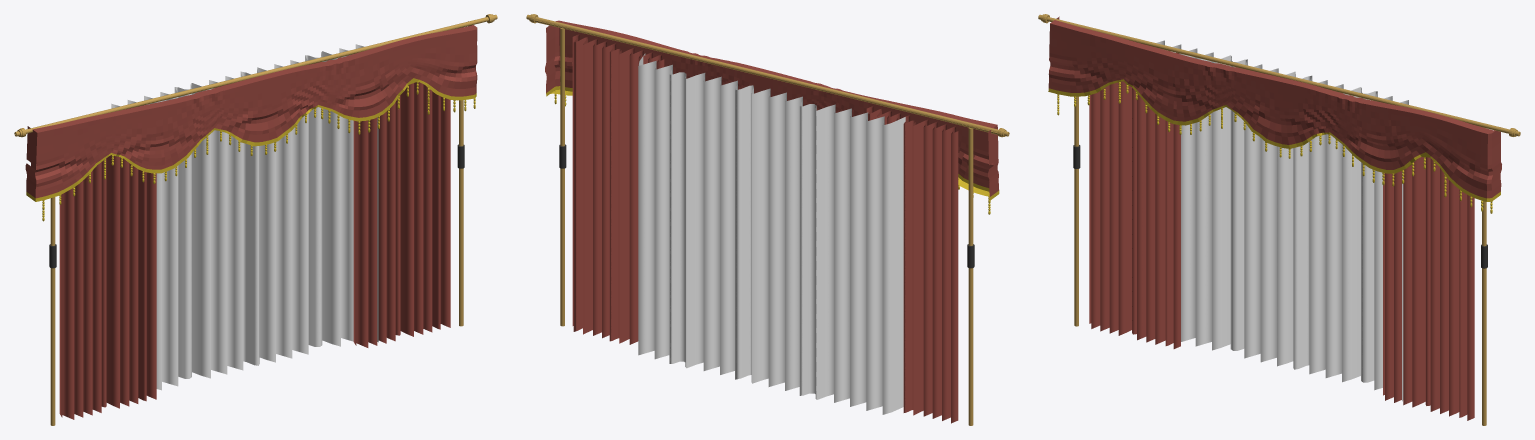
File: cortina_estudio.fbx
3 views of the same model, side by side, from view 1: azimuth 30°, elevation 25°; view 2: azimuth 150°, elevation 25°; view 3: azimuth 330°, elevation 25° (orthographic).
Visible parts, largest first — view 1: pPlane3, ZBrush_defualt_group, pPlane5, pPlane4, pCylinder1, pCylinder3, pSphere50, pCylinder2; view 2: pPlane3, pPlane4, pPlane5, ZBrush_defualt_group, pCylinder1, pCylinder3, pCylinder2; view 3: pPlane3, ZBrush_defualt_group, pPlane5, pPlane4, pCylinder1, pSphere50, pCylinder3, pCylinder2.
Boxes of the visible parts, x1,y1,x2,y2 form: pPlane3: [111, 44, 378, 390]; ZBrush_defualt_group: [25, 21, 477, 201]; pPlane5: [59, 155, 156, 419]; pPlane4: [353, 82, 450, 347]; pCylinder1: [14, 14, 497, 137]; pCylinder3: [49, 197, 56, 425]; pSphere50: [42, 81, 475, 221]; pCylinder2: [457, 100, 464, 326]; pPlane3: [638, 53, 905, 414]; pPlane4: [572, 34, 664, 344]; pPlane5: [866, 105, 958, 423]; ZBrush_defualt_group: [545, 20, 999, 200]; pCylinder1: [526, 14, 1009, 137]; pCylinder3: [967, 127, 974, 425]; pCylinder2: [559, 28, 566, 326]; pPlane3: [1156, 40, 1408, 401]; ZBrush_defualt_group: [1048, 16, 1501, 201]; pPlane5: [1089, 50, 1180, 348]; pPlane4: [1383, 157, 1474, 420]; pCylinder1: [1038, 14, 1520, 136]; pSphere50: [1057, 82, 1492, 213]; pCylinder3: [1073, 96, 1080, 326]; pCylinder2: [1481, 201, 1487, 425].
Bounding box in the file's own units: 45.83 × 27.67 × 3.77.
